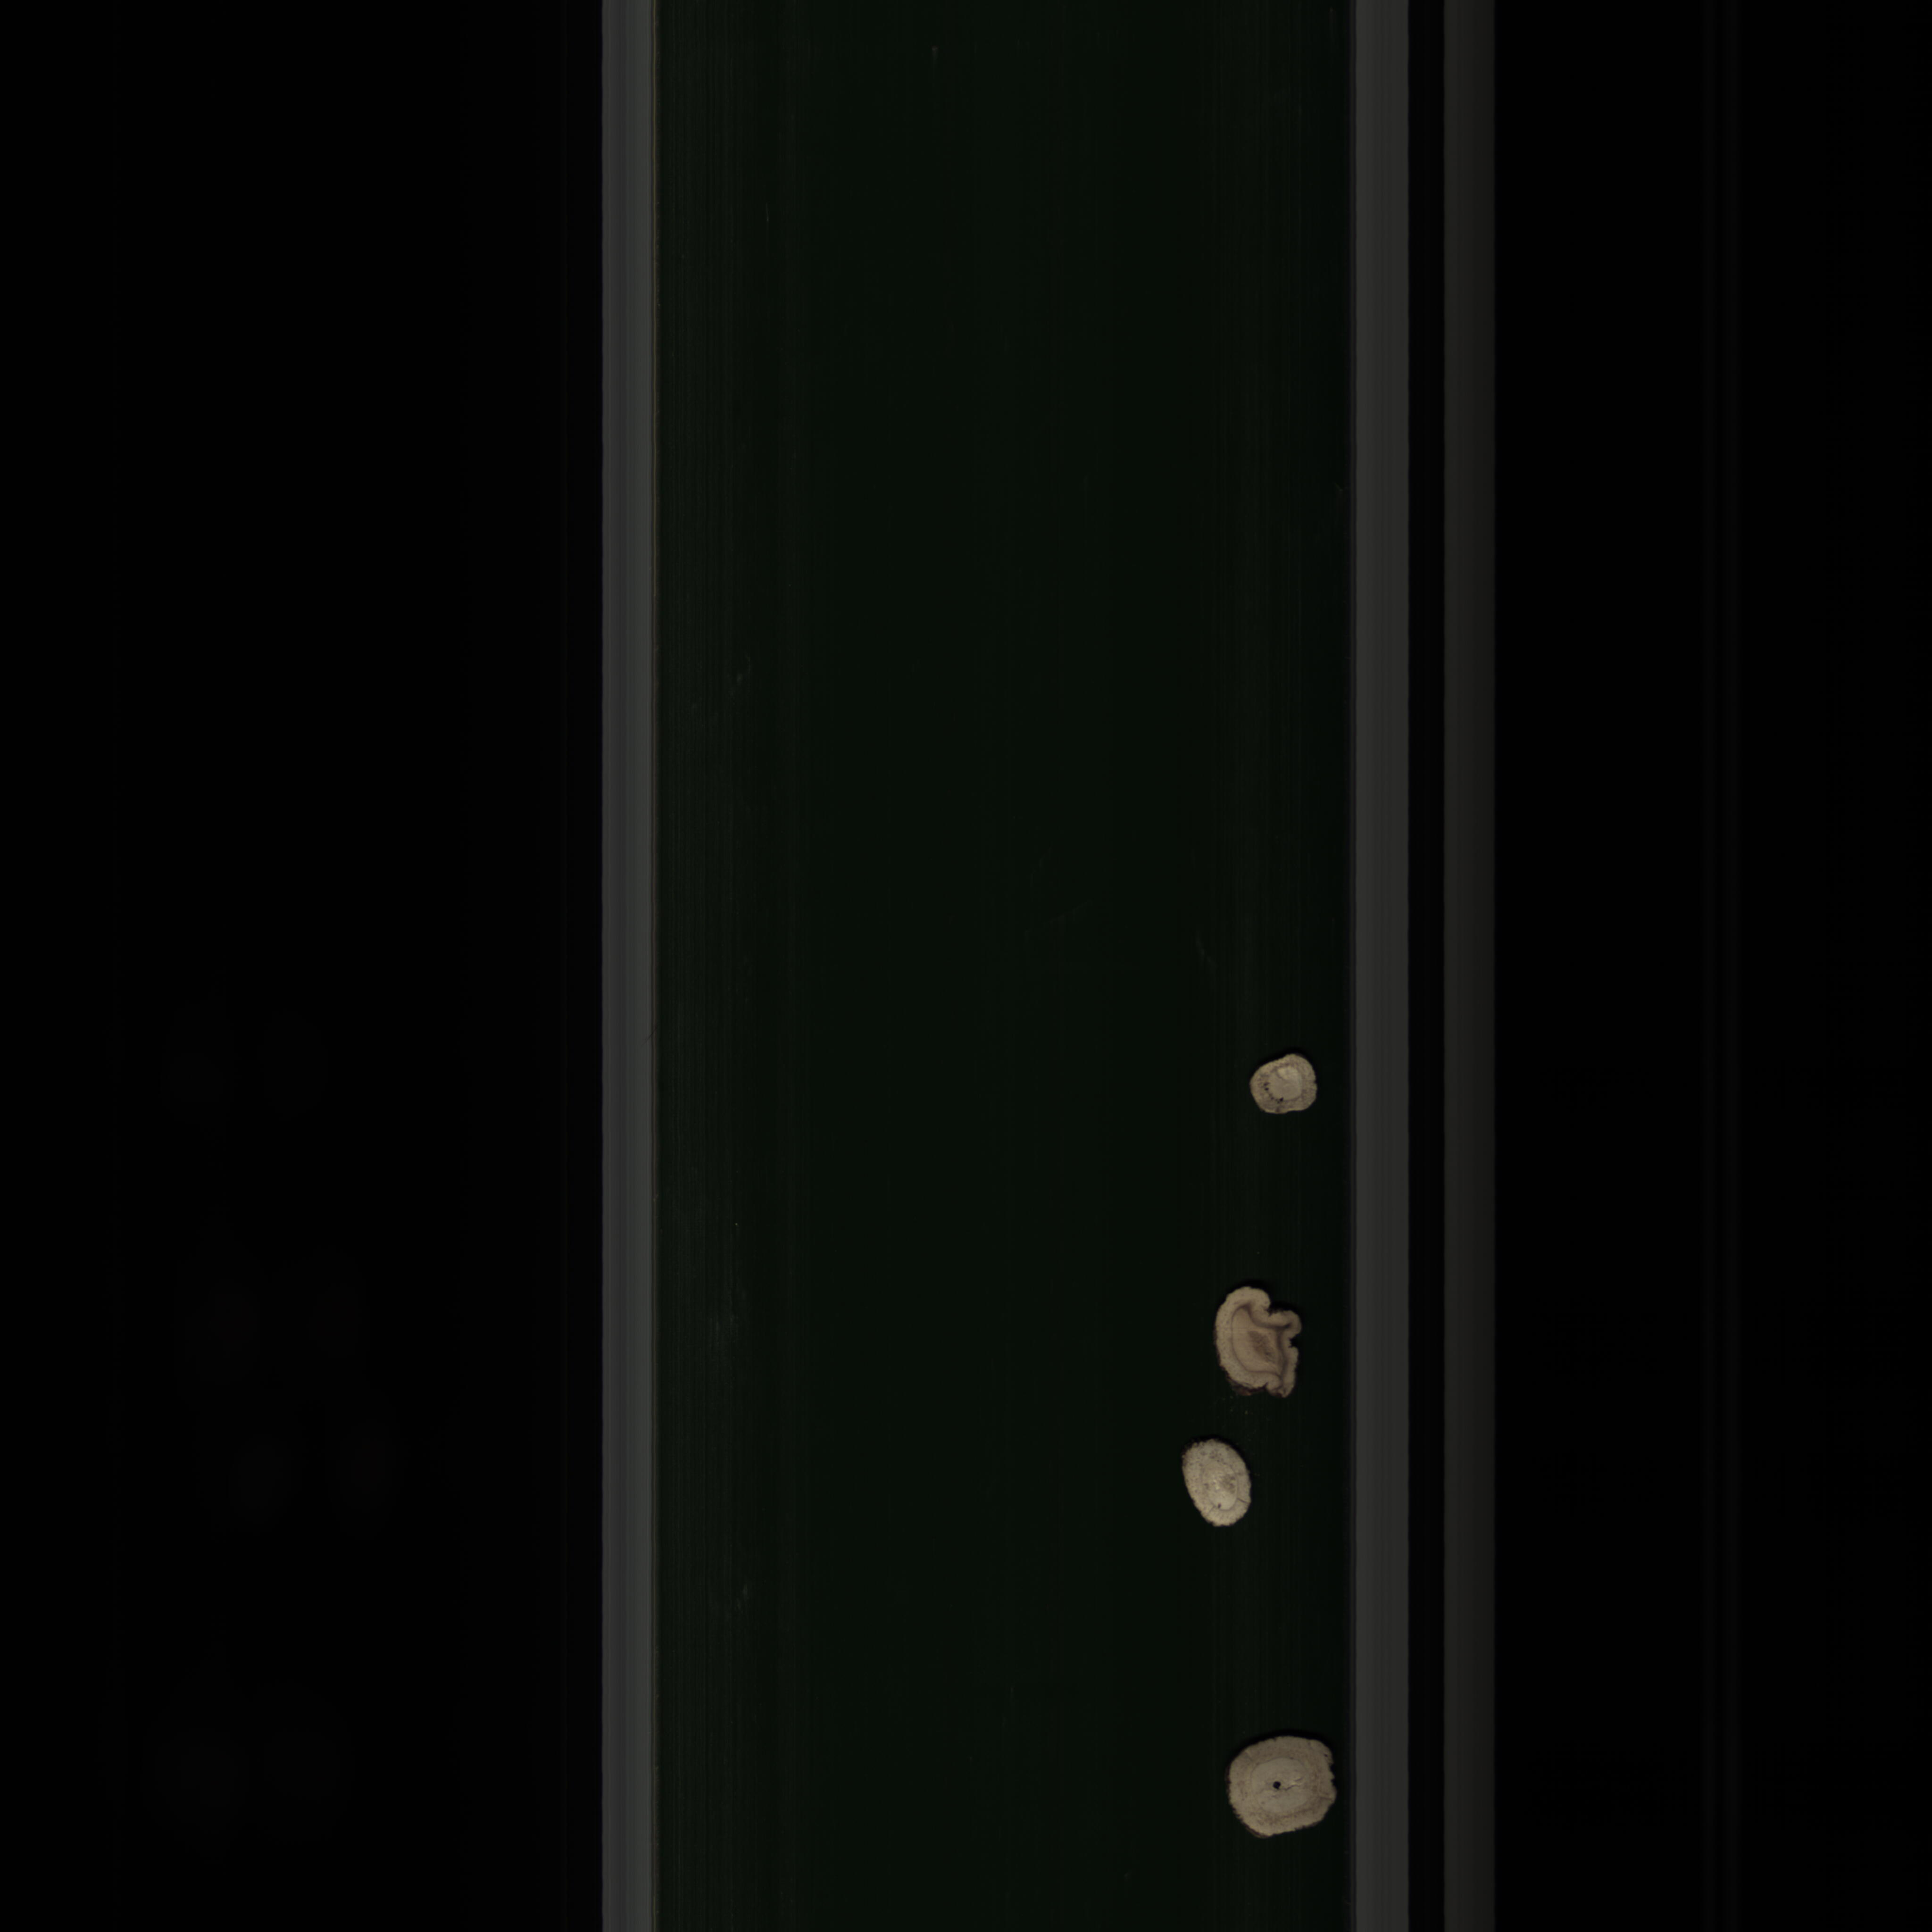distortion: (1203, 1283, 1313, 1414)
hole: (1223, 1732, 1350, 1849), (1242, 1051, 1330, 1125)
